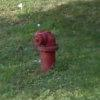Hydrant: (23, 22, 74, 78)
